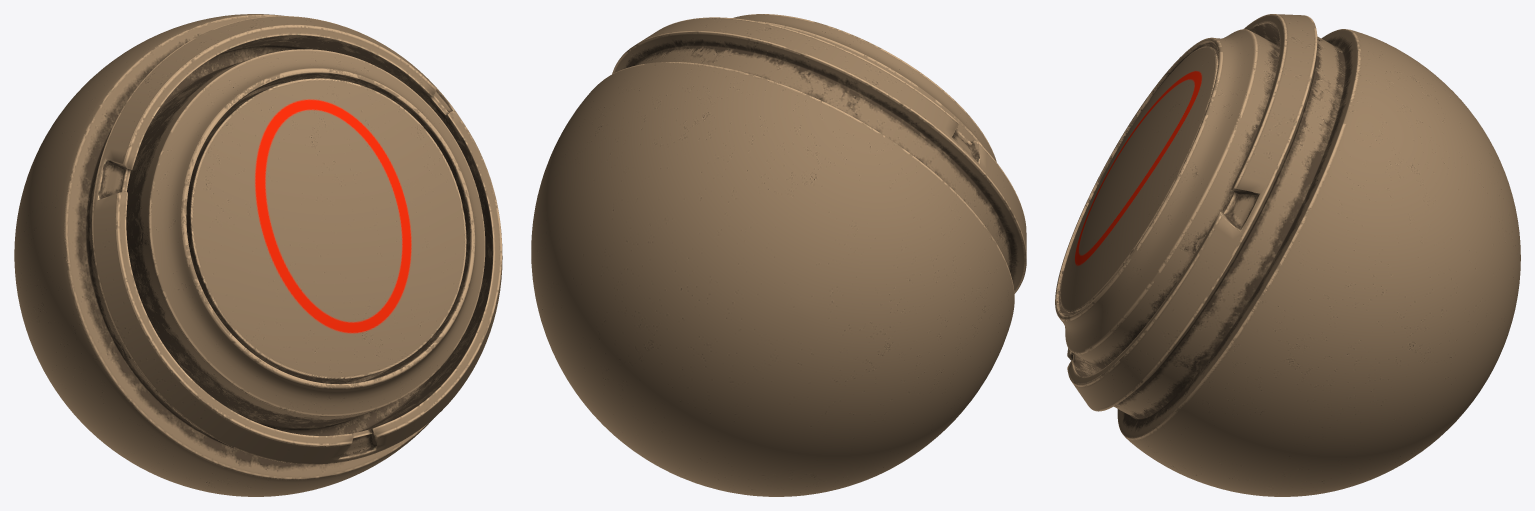
Rendered from previewSphere.gltf.
3 views of the same model, side by side, from view 1: azimuth 30°, elevation 25°; view 2: azimuth 150°, elevation 25°; view 3: azimuth 270°, elevation 25° (orthographic). The views are drawn at different scales.
Parts seen in each view (by area): view 1: PreviewSphere.001; view 2: PreviewSphere.001; view 3: PreviewSphere.001.
Boxes of the visible parts, box(x1,y1,x2,y2) form: PreviewSphere.001: box(14, 14, 502, 496); PreviewSphere.001: box(531, 14, 1026, 496); PreviewSphere.001: box(1055, 14, 1520, 496).
Bounding box in the file's own units: 1.98 × 2 × 1.93.
Materials: 1 (1 with a texture image).
